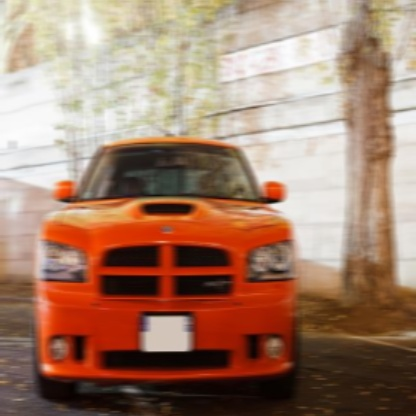Vehicle: (32, 135, 300, 403)
